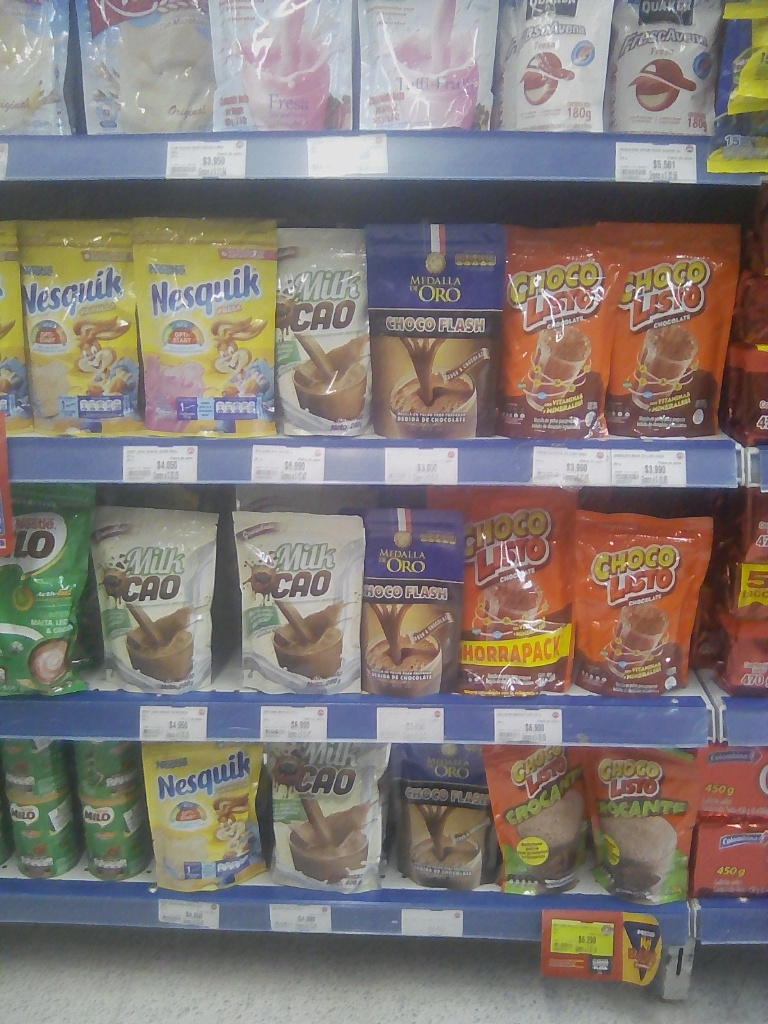COL0170102DYP25000: (495, 744, 587, 896)
COL0170103DYP44000: (433, 484, 592, 697)
COL0170203DYP25000: (0, 492, 104, 696)
COL0170203LAT20000: (8, 789, 84, 881)
COL0170305DYP20000: (135, 219, 288, 439)
COL0170306DYP20000: (3, 216, 136, 437)
